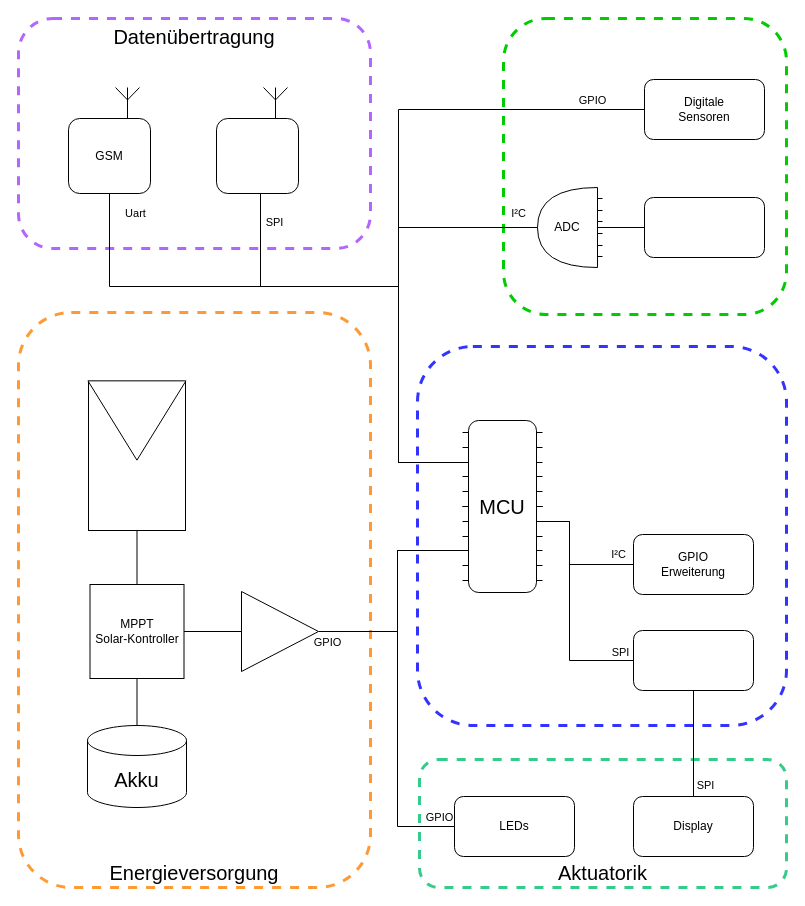
Image size: 805x906. Some labels were removed from this diagram. The box of each missing label's shape, as (x1, y1, x2, y2) in pixels:
Analoge Sensoren: (644, 196, 764, 258)
LoRa: (216, 118, 298, 194)
SD Karte: (632, 630, 754, 690)
Sensorik: (502, 16, 788, 316)
Solar: (88, 380, 186, 530)
Steuerung: (416, 344, 788, 726)
Timer: (240, 590, 318, 672)
